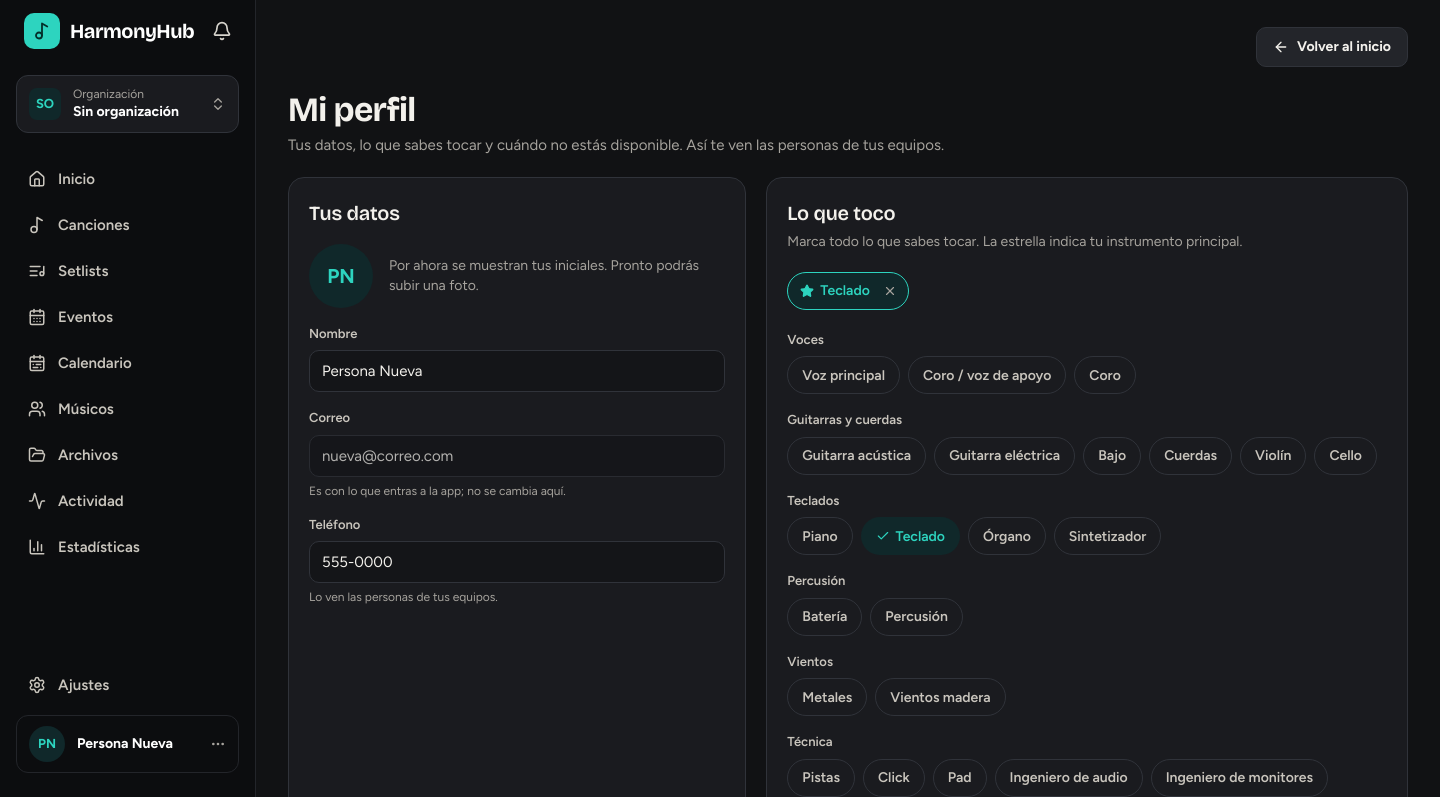
Test: cuenta sin organizacion: entra a la aplicacion › editar un perfil que ya estaba completo muestra "Cambios guardados."
Step 1. Replace the text in the field labelled "Teléfono" with "555-1234" → point(517, 562), box [309, 541, 725, 583]
(page scrolled)
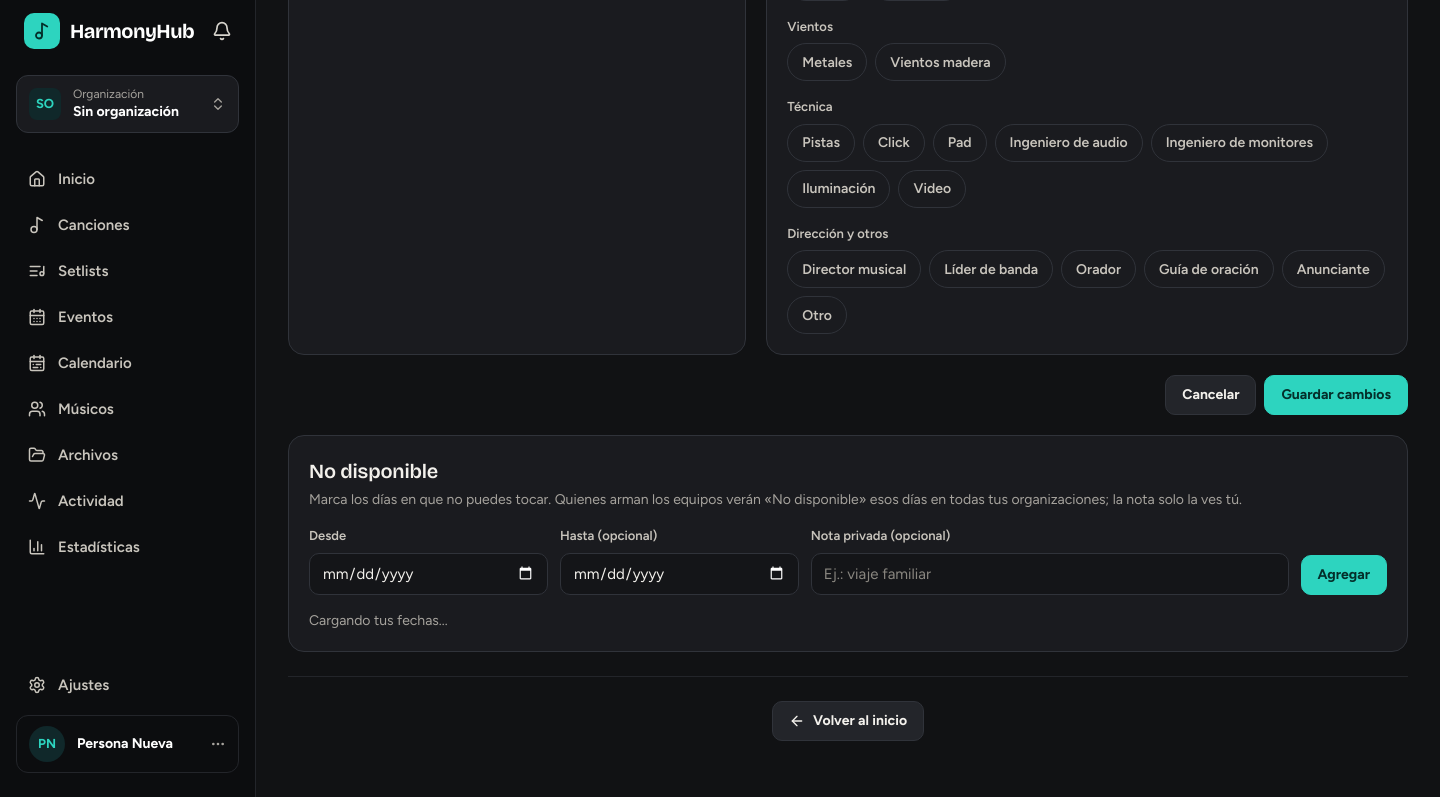
Step 2. Click the button "Guardar cambios" → point(1336, 395), box [1264, 375, 1408, 415]
(page scrolled)
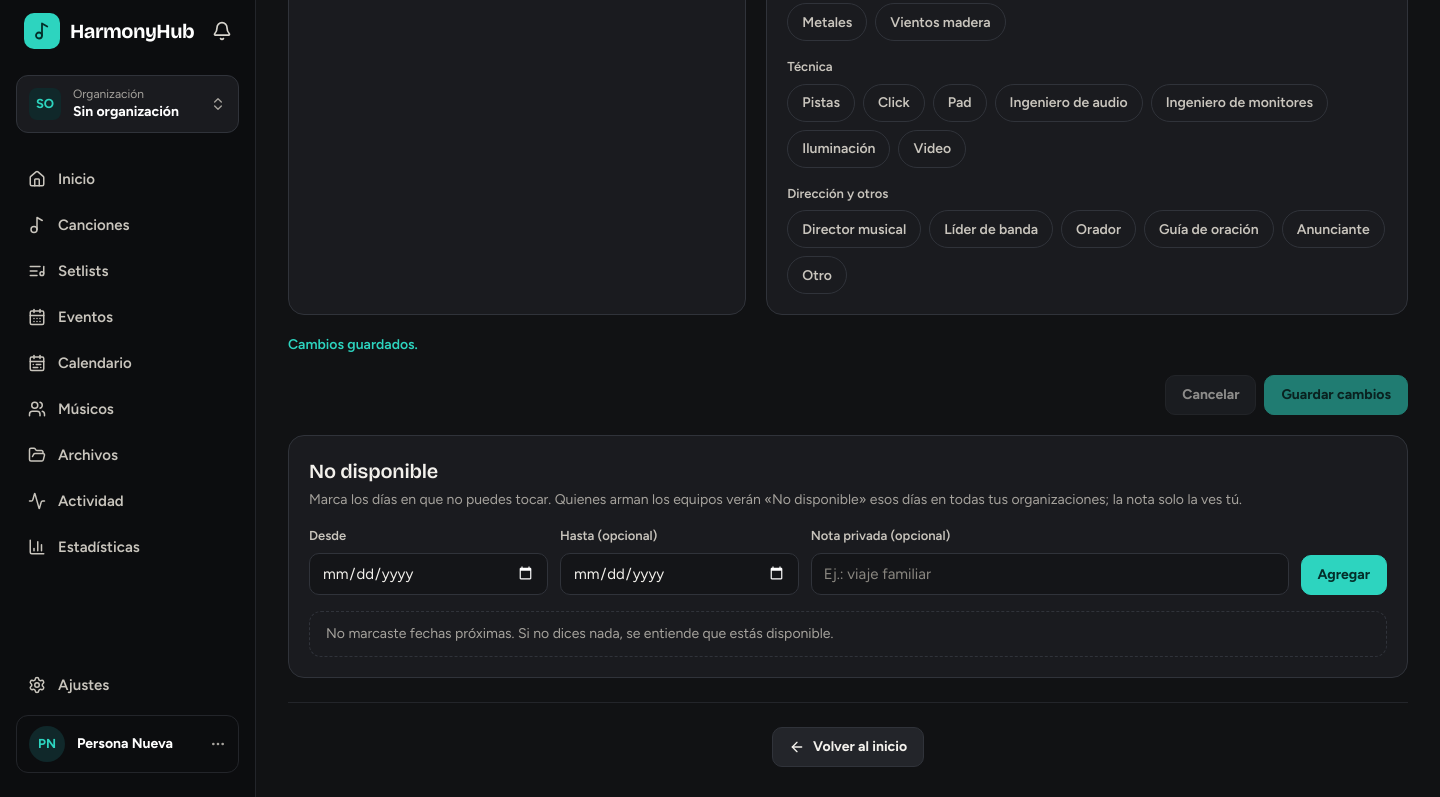
Check: the text "Cambios guardados." is shown, box [288, 336, 418, 353]
